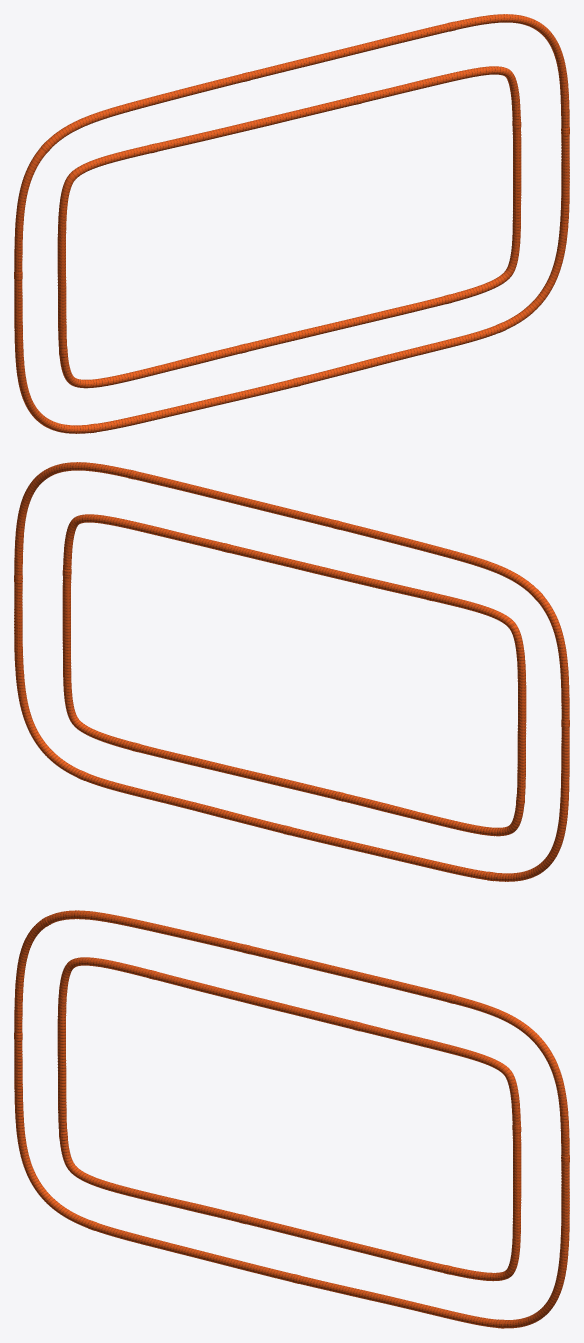
The model's file is ducts.obj.
3 views of the same model, one above another, from view 1: azimuth 30°, elevation 25°; view 2: azimuth 150°, elevation 25°; view 3: azimuth 330°, elevation 25° (orthographic).
Bounding box in the file's own units: 20.64 × 11.59 × 0.2927.
Materials: 1 (1 with a texture image).
